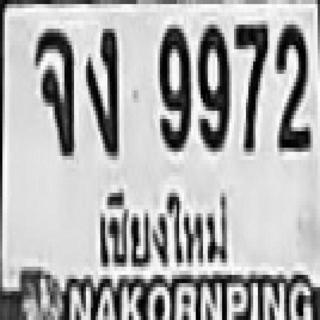A07: (84, 25, 120, 159)
A08: (33, 25, 75, 156)
N02: (274, 20, 308, 148)
N07: (232, 20, 267, 152)
N09: (196, 21, 229, 150), (158, 20, 190, 150)
P11: (90, 183, 233, 267)
